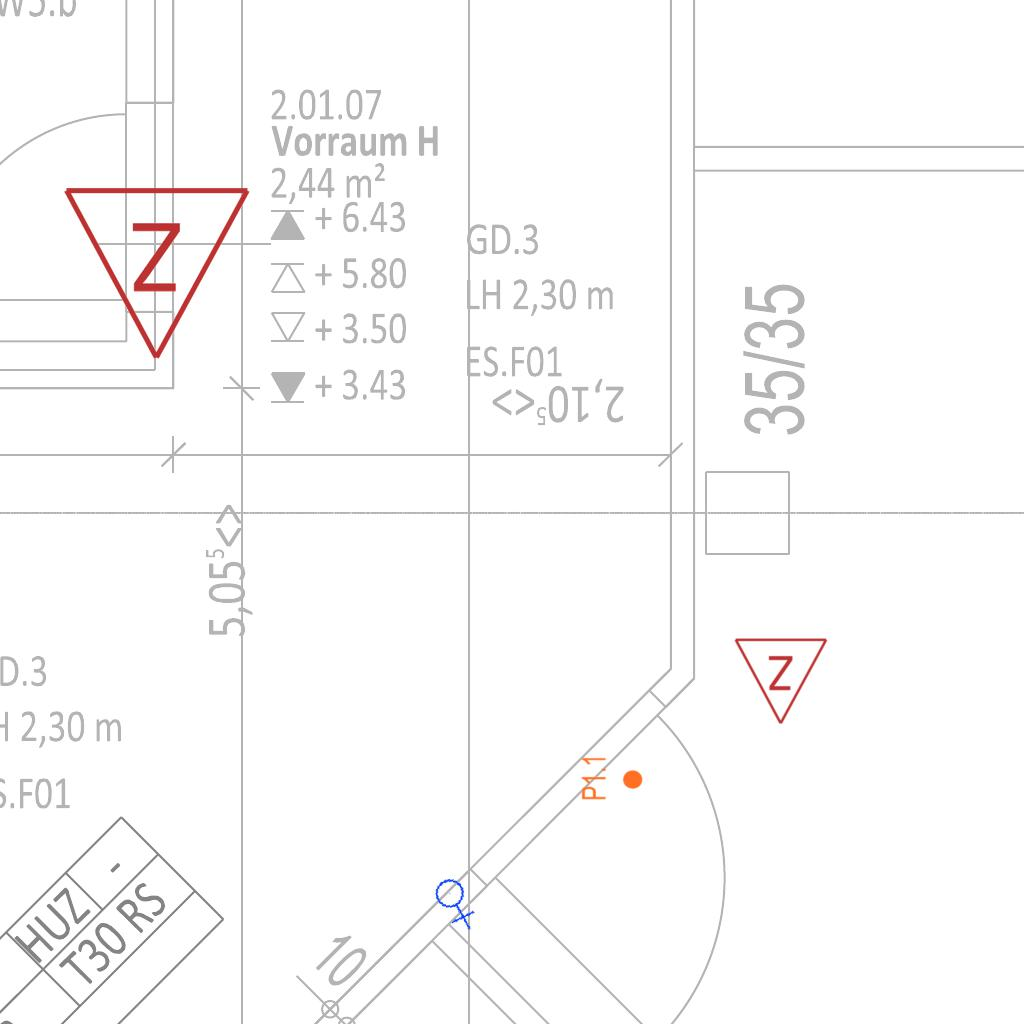Downlight_LED_Einbauleuchten_Flur: (580, 755, 644, 801)
Elektroanschluss_allgemein_230V_Geraeteanschlussdose_230V: (427, 871, 486, 932)
Zimmersignalleuchte: (61, 173, 257, 373), (733, 631, 831, 731)
